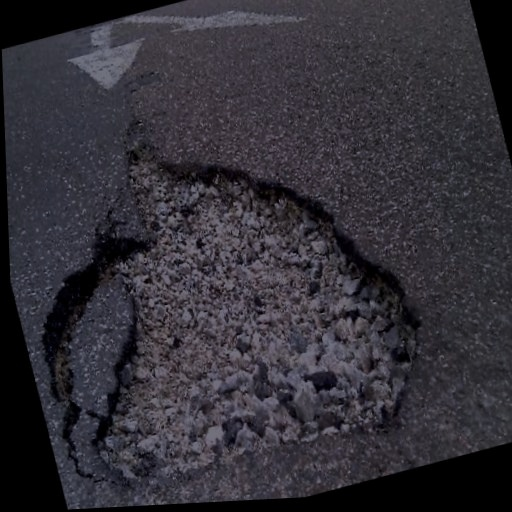pothole: (3, 64, 451, 512)
